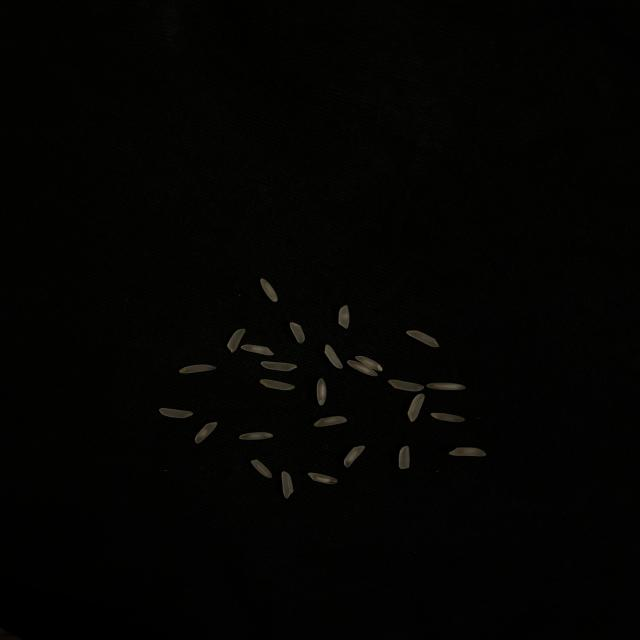Broken: (399, 446, 410, 469)
Full: (406, 330, 439, 348), (195, 422, 218, 444), (347, 360, 378, 376), (408, 394, 425, 422), (388, 379, 424, 392), (344, 446, 365, 468), (227, 329, 246, 353), (324, 344, 343, 368), (260, 278, 278, 302), (355, 356, 383, 371), (251, 459, 272, 478), (241, 344, 274, 356), (260, 379, 295, 390), (179, 364, 217, 374), (448, 447, 486, 457), (281, 471, 294, 499), (314, 416, 347, 427), (261, 361, 297, 371), (308, 473, 338, 484), (160, 408, 193, 418), (290, 322, 305, 344), (426, 382, 466, 390), (431, 413, 465, 422), (316, 378, 327, 405), (338, 305, 350, 329), (239, 432, 273, 440)
